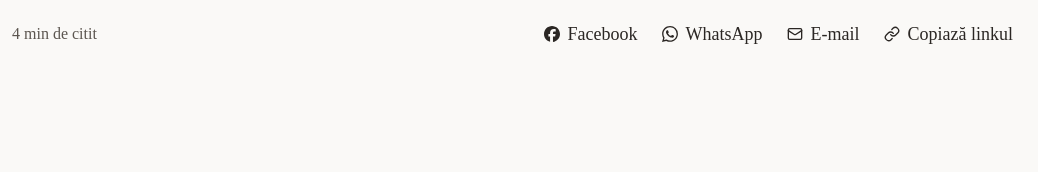
Scenario: ShareLinks — THE LINE, on the real stylesheet › at a laptop’s column, the words shown a FAILED copy moves no control and not the reading time — the sentence on the line under them, inside the row — and the li
Click the button "Copiază linkul". click: x=948, y=34
box: [876,12,1021,56]
Wait 60150 ms
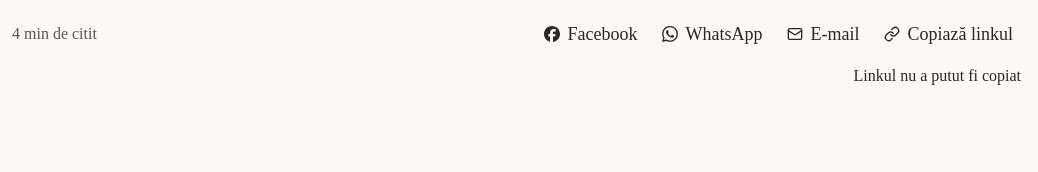
Now the text "Linkul nu a putut fi copiat" is shown, box [854,67,1021,84]
